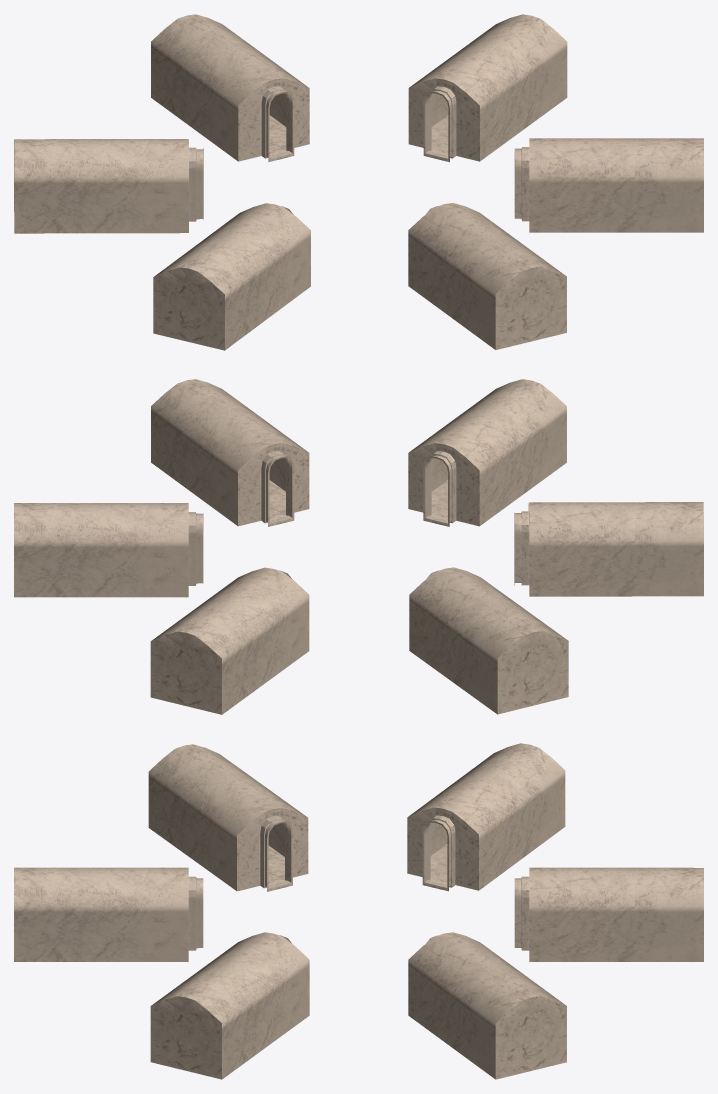
File: atriumGallery_inside.fbx
The picture shows the model from 3 angles, top to bottom: view 1: azimuth 30°, elevation 25°; view 2: azimuth 150°, elevation 25°; view 3: azimuth 270°, elevation 25°; orthographic projection.
Visible parts, largest first — view 1: WHITEROOM.006, WHITEROOM.003, WHITEROOM.005, WHITEROOM.004, WHITEROOM.001, WHITEROOM.002; view 2: WHITEROOM.002, WHITEROOM.005, WHITEROOM.006, WHITEROOM.001, WHITEROOM.003, WHITEROOM.004; view 3: WHITEROOM.001, WHITEROOM.004, WHITEROOM.002, WHITEROOM.003, WHITEROOM.006, WHITEROOM.005.
Part boxes in pixels (<box>): WHITEROOM.006: <box>514,138,703,232</box>; WHITEROOM.003: <box>14,139,203,233</box>; WHITEROOM.005: <box>408,14,567,162</box>; WHITEROOM.004: <box>151,14,309,162</box>; WHITEROOM.001: <box>408,203,566,349</box>; WHITEROOM.002: <box>153,203,310,350</box>; WHITEROOM.002: <box>514,502,703,596</box>; WHITEROOM.005: <box>14,503,203,597</box>; WHITEROOM.006: <box>151,379,309,526</box>; WHITEROOM.001: <box>408,379,566,526</box>; WHITEROOM.003: <box>409,567,568,714</box>; WHITEROOM.004: <box>150,567,309,714</box>; WHITEROOM.001: <box>14,867,203,961</box>; WHITEROOM.004: <box>514,867,703,961</box>; WHITEROOM.002: <box>148,744,308,891</box>; WHITEROOM.003: <box>407,743,565,891</box>; WHITEROOM.006: <box>150,932,309,1079</box>; WHITEROOM.005: <box>408,932,566,1079</box>.
Bounding box in the file's own units: 7588 × 972 × 8187.
Materials: 2 (2 with a texture image).
